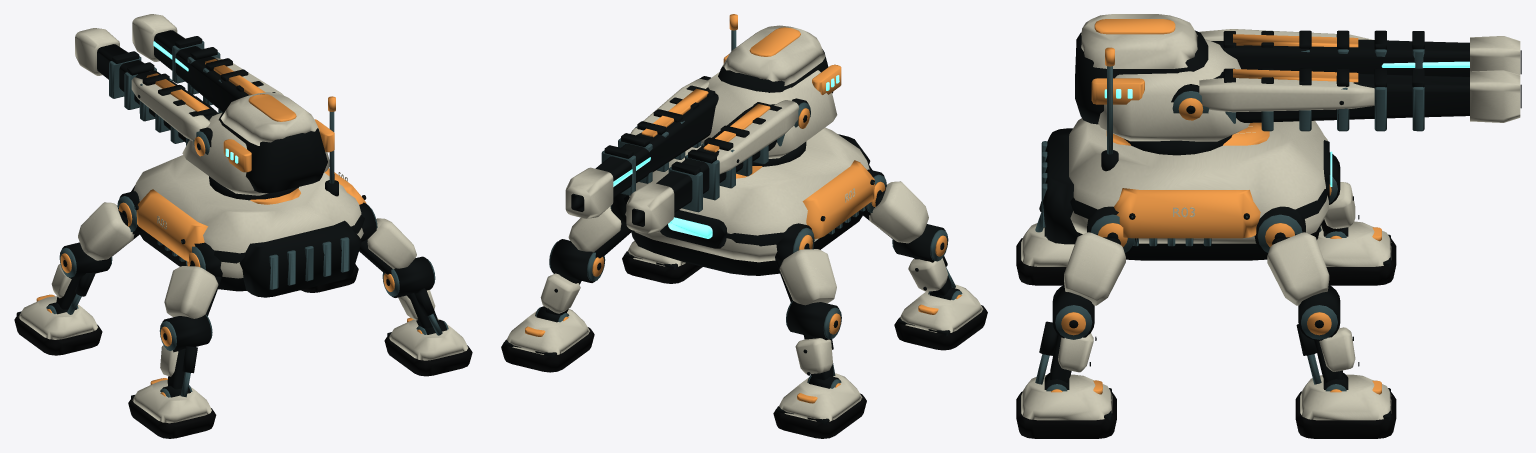
The model's file is railgun-lod.glb.
The picture shows the model from 3 angles, left to right: view 1: azimuth 30°, elevation 25°; view 2: azimuth 150°, elevation 25°; view 3: azimuth 270°, elevation 25°; orthographic projection. The views are drawn at different scales.
Visible parts, largest first — view 1: Body_Geometry, Recoil_Carriage_Geometry, Ankle_LB_Geometry, Ankle_LF_Geometry, Ankle_RB_Geometry, Hip_LB_Geometry, Turret_Yaw_Geometry, Hip_LF_Geometry, Knee_LB_Geometry, Knee_RB_Geometry, Hip_RB_Geometry, Knee_LF_Geometry; view 2: Recoil_Carriage_Geometry, Body_Geometry, Turret_Yaw_Geometry, Ankle_LF_Geometry, Ankle_RF_Geometry, Ankle_LB_Geometry, Hip_LF_Geometry, Knee_LF_Geometry, Hip_LB_Geometry, Knee_RF_Geometry, Knee_LB_Geometry, Hip_RF_Geometry (+1 smaller); view 3: Recoil_Carriage_Geometry, Body_Geometry, Turret_Yaw_Geometry, Ankle_RF_Geometry, Ankle_RB_Geometry, Hip_RF_Geometry, Hip_RB_Geometry, Ankle_LF_Geometry, Knee_RB_Geometry, Knee_RF_Geometry, Ankle_LB_Geometry, Knee_LF_Geometry (+1 smaller).
Boxes of the visible parts, x1,y1,x2,y2 form: Body_Geometry: (131, 96, 366, 297); Recoil_Carriage_Geometry: (75, 14, 334, 193); Ankle_LB_Geometry: (128, 378, 216, 438); Ankle_LF_Geometry: (14, 294, 102, 355); Ankle_RB_Geometry: (384, 317, 472, 376); Hip_LB_Geometry: (164, 242, 222, 318); Turret_Yaw_Geometry: (182, 113, 329, 200); Hip_LF_Geometry: (78, 191, 143, 260); Knee_LB_Geometry: (159, 315, 212, 397); Knee_RB_Geometry: (382, 256, 442, 335); Hip_RB_Geometry: (359, 202, 416, 274); Knee_LF_Geometry: (51, 242, 112, 314); Recoil_Carriage_Geometry: (565, 25, 841, 233); Body_Geometry: (624, 14, 874, 275); Turret_Yaw_Geometry: (701, 70, 837, 166); Ankle_LF_Geometry: (773, 373, 866, 438); Ankle_RF_Geometry: (501, 306, 594, 372); Ankle_LB_Geometry: (894, 284, 987, 350); Hip_LF_Geometry: (775, 223, 836, 305); Knee_LF_Geometry: (786, 301, 841, 380); Hip_LB_Geometry: (858, 169, 928, 243); Knee_RF_Geometry: (540, 239, 605, 315); Knee_LB_Geometry: (892, 224, 955, 295); Hip_RF_Geometry: (568, 193, 631, 258); Recoil_Carriage_Geometry: (1075, 14, 1521, 131); Body_Geometry: (1041, 47, 1332, 260); Turret_Yaw_Geometry: (1098, 39, 1249, 155); Ankle_RF_Geometry: (1295, 373, 1396, 438); Ankle_RB_Geometry: (1016, 373, 1116, 438); Hip_RF_Geometry: (1254, 206, 1329, 305); Hip_RB_Geometry: (1064, 206, 1137, 305); Ankle_LF_Geometry: (1317, 221, 1396, 285); Knee_RB_Geometry: (1035, 285, 1096, 384); Knee_RF_Geometry: (1296, 285, 1359, 384); Ankle_LB_Geometry: (1016, 223, 1074, 285); Knee_LF_Geometry: (1319, 152, 1359, 233).
Bounding box in the file's own units: 1.59 × 1.29 × 1.81.
Materials: 2 (1 with a texture image).
